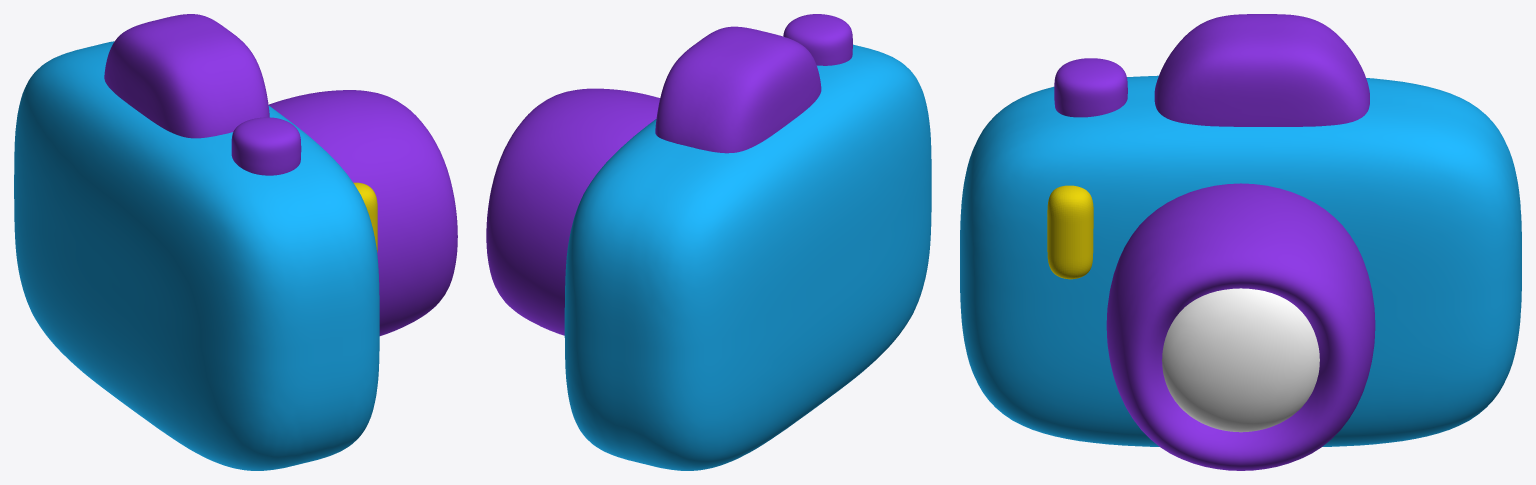
The model's file is camera.glb.
3 views of the same model, side by side, from view 1: azimuth 30°, elevation 25°; view 2: azimuth 150°, elevation 25°; view 3: azimuth 270°, elevation 25° (orthographic). The views are drawn at different scales.
Visible parts, largest first — view 1: Cube, Cube.003, Cube.001, Cube.002, Cube.004; view 2: Cube, Cube.003, Cube.001, Cube.002; view 3: Cube, Cube.003, Cube.001, Icosphere, Cube.004, Cube.002.
Boxes of the visible parts, left/top/right/bottom form: Cube: left=14, top=41, right=379, bottom=470; Cube.003: left=269, top=90, right=457, bottom=335; Cube.001: left=104, top=14, right=269, bottom=138; Cube.002: left=231, top=117, right=301, bottom=175; Cube.004: left=353, top=182, right=377, bottom=252; Cube: left=564, top=44, right=931, bottom=470; Cube.003: left=486, top=88, right=660, bottom=335; Cube.001: left=655, top=26, right=821, bottom=153; Cube.002: left=783, top=14, right=852, bottom=65; Cube: left=960, top=75, right=1521, bottom=446; Cube.003: left=1106, top=183, right=1375, bottom=470; Cube.001: left=1154, top=14, right=1369, bottom=126; Icosphere: left=1162, top=288, right=1319, bottom=432; Cube.004: left=1047, top=185, right=1093, bottom=279; Cube.002: left=1054, top=58, right=1127, bottom=117.
Size of the model in its own units: 4.76 by 5.53 by 7.04.
